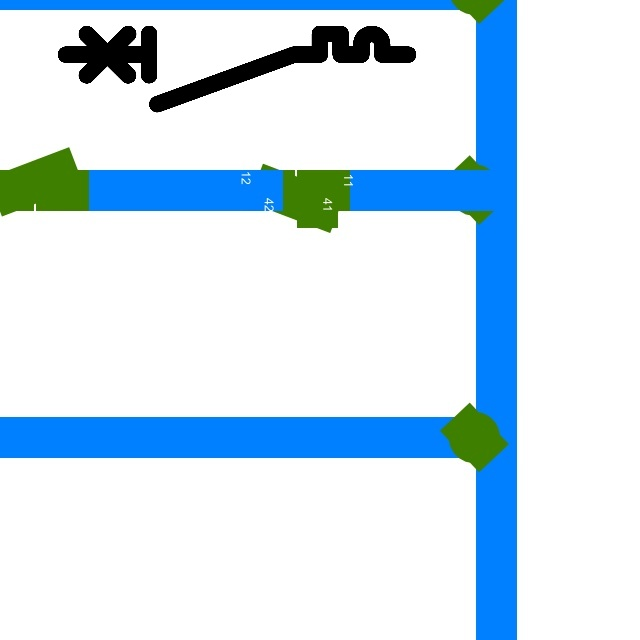interruptor_termomagnetico: (57, 25, 417, 113)
